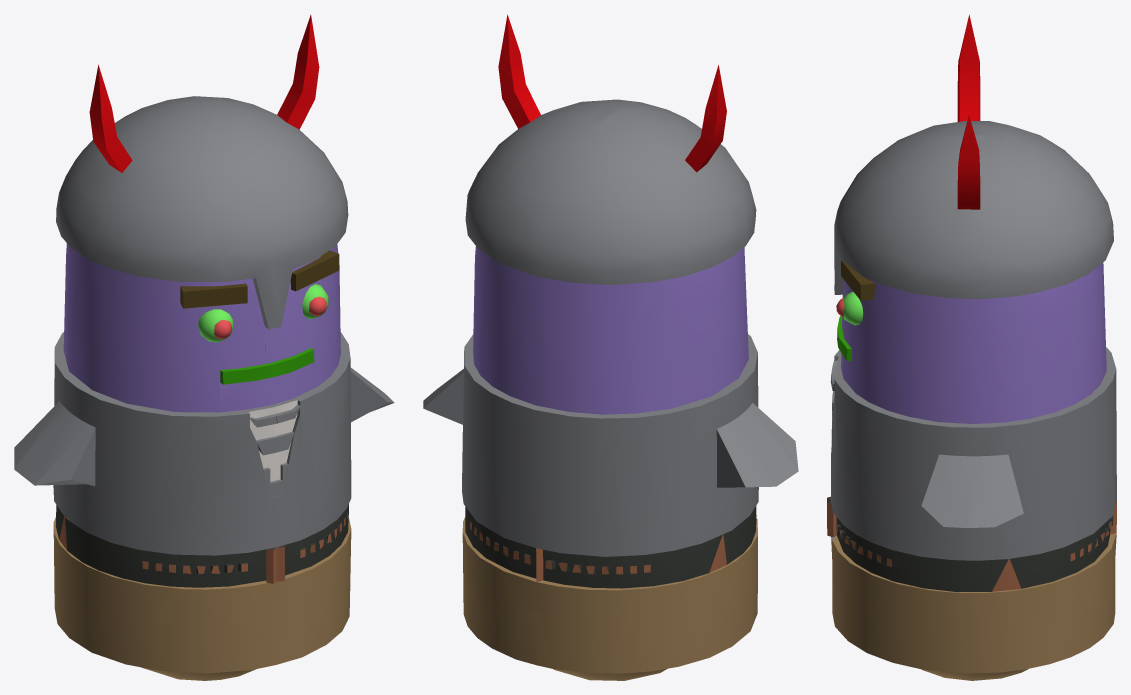
The model's file is VikingLowPoly.fbx.
The picture shows the model from 3 angles, left to right: view 1: azimuth 30°, elevation 25°; view 2: azimuth 150°, elevation 25°; view 3: azimuth 270°, elevation 25°; orthographic projection. The views are drawn at different scales.
Parts seen in each view (by area): view 1: Sphere, Cube.001, Sphere.003, Sphere.002; view 2: Sphere; view 3: Sphere, Cube.001, Sphere.001.
Part boxes in pixels (x1,y1,x2,y2): Sphere: (14, 14, 394, 680); Cube.001: (180, 250, 339, 308); Sphere.003: (198, 309, 233, 342); Sphere.002: (214, 296, 326, 339); Sphere: (423, 14, 798, 680); Sphere: (827, 14, 1116, 680); Cube.001: (841, 260, 875, 300); Sphere.001: (843, 291, 863, 325).
Size of the model in its own units: 292 by 494 by 214.
